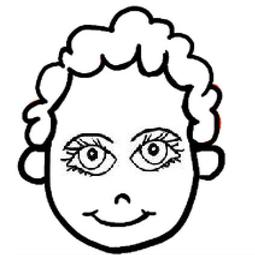ear: (11, 146, 54, 188), (187, 145, 232, 183)
eye: (126, 131, 186, 178), (61, 137, 120, 174)
eyebrow: (126, 122, 187, 141), (62, 122, 114, 143)
mouth: (82, 207, 163, 233)
nose: (114, 191, 136, 207)
